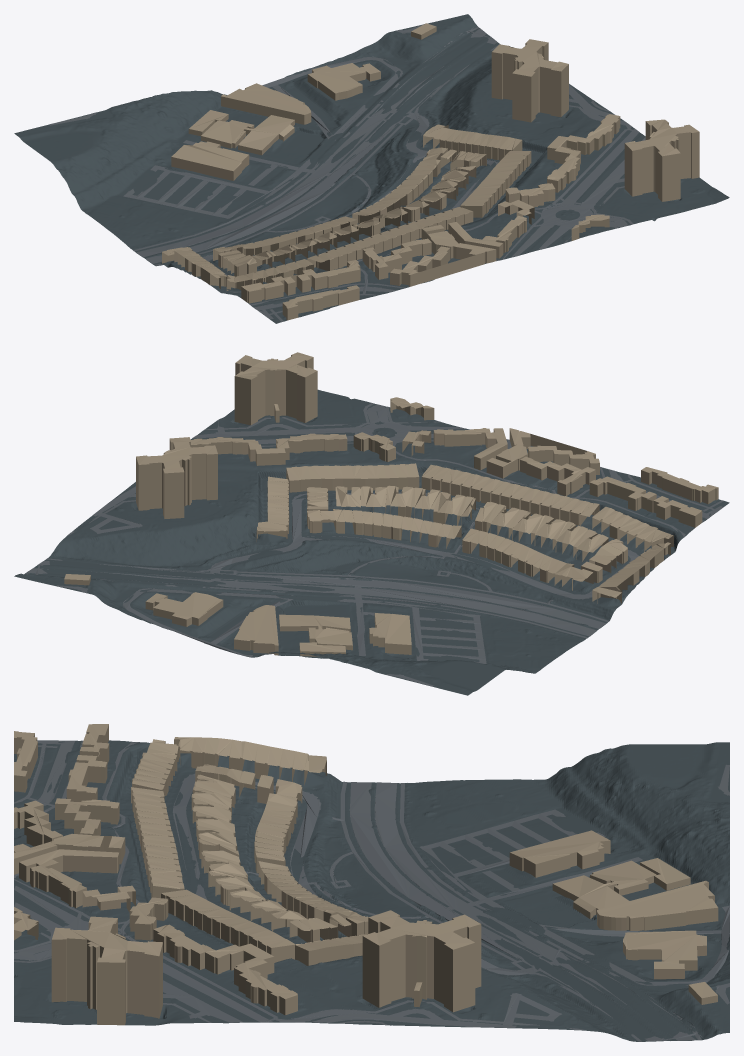
File: epsg26910-1422-10870.lod0.glb
3 renders of one model, top to bottom at view 1: azimuth 30°, elevation 25°; view 2: azimuth 150°, elevation 25°; view 3: azimuth 270°, elevation 25°, orthographic. The views are drawn at different scales.
Visible parts, largest first — view 1: epsg26910-1422-10870-lod0; view 2: epsg26910-1422-10870-lod0; view 3: epsg26910-1422-10870-lod0.
Boxes of the visible parts, x1,y1,x2,y2 form: epsg26910-1422-10870-lod0: (14,14,729,323); epsg26910-1422-10870-lod0: (14,352,729,695); epsg26910-1422-10870-lod0: (14,724,729,1041).
Bounding box in the file's own units: 384 × 74.03 × 384.
